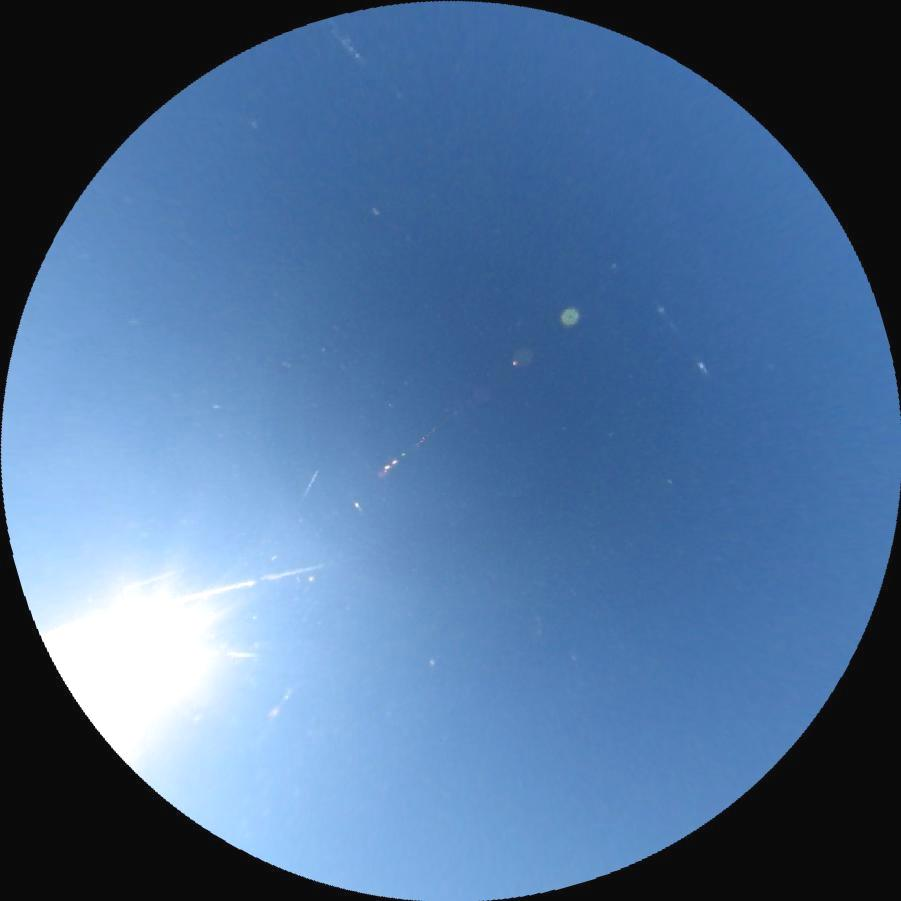contrail young: (298, 467, 321, 502), (227, 650, 258, 658)
parasite: (40, 556, 326, 641), (322, 16, 406, 104), (654, 301, 717, 384)
sun: (33, 552, 237, 749)
unknow: (118, 569, 183, 592)
